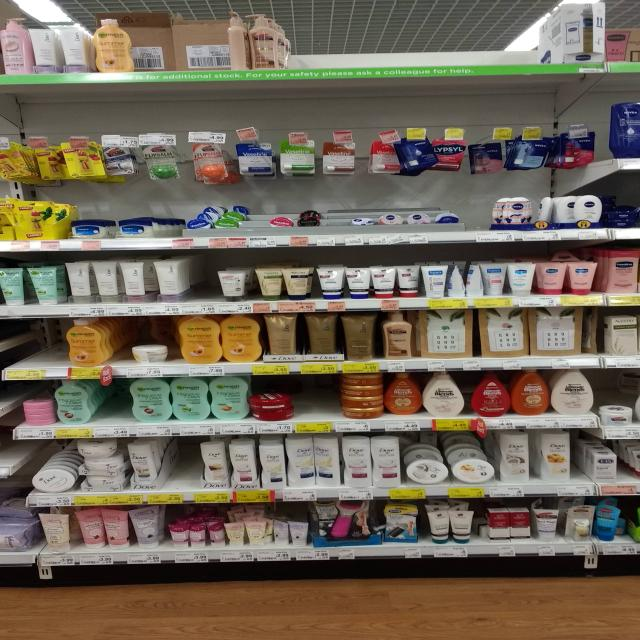void: (5, 320, 56, 367), (294, 376, 342, 420), (164, 440, 199, 491), (184, 257, 217, 300)
